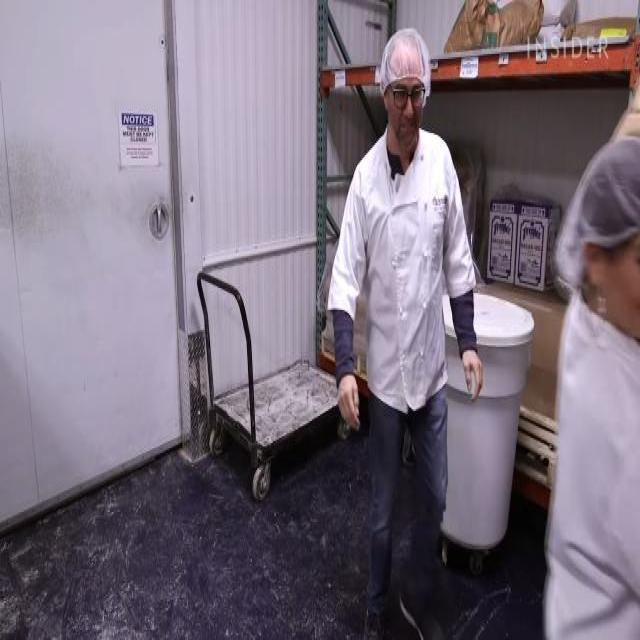hairnet: (551, 140, 640, 248), (374, 29, 432, 90)
